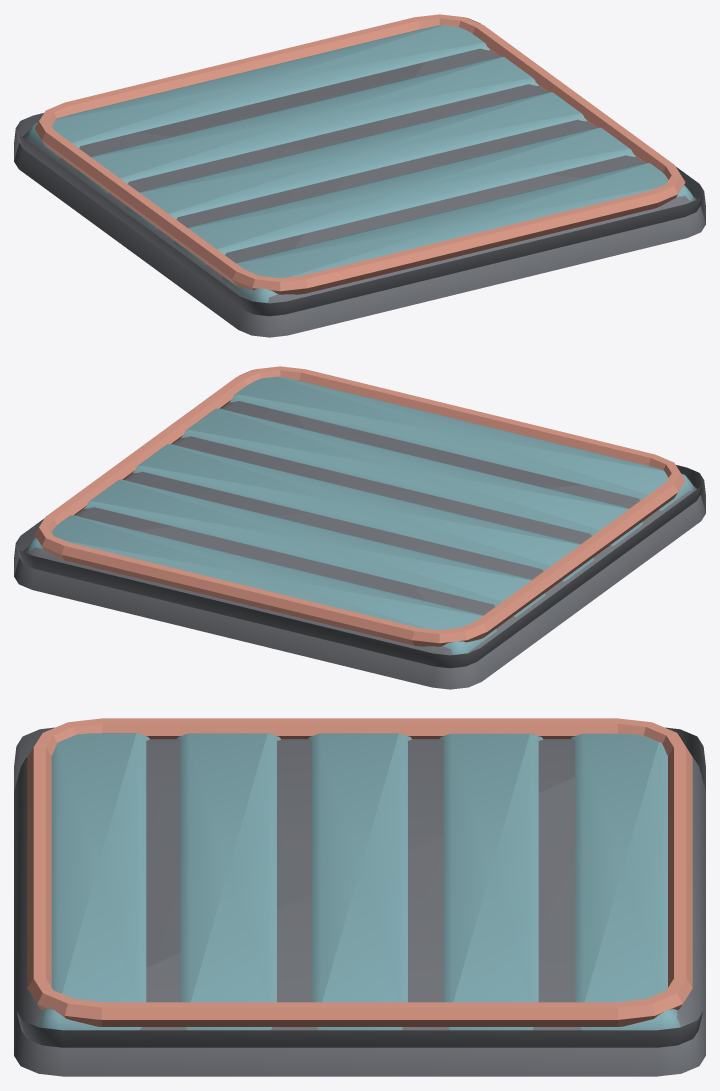
File: care-home-and-day-room-pressure-relief-cushion-a054b7c1__35726.glb
3 renders of one model, top to bottom at view 1: azimuth 30°, elevation 25°; view 2: azimuth 150°, elevation 25°; view 3: azimuth 270°, elevation 25°, orthographic. The views are drawn at different scales.
Visible parts, largest first — view 1: pressure-relief-cushion; view 2: pressure-relief-cushion; view 3: pressure-relief-cushion.
Boxes of the visible parts, x1,y1,x2,y2 form: pressure-relief-cushion: [14, 14, 705, 337]; pressure-relief-cushion: [14, 366, 705, 689]; pressure-relief-cushion: [14, 718, 705, 1076].
Bounding box in the file's own units: 0.463 × 0.0429 × 0.443.
